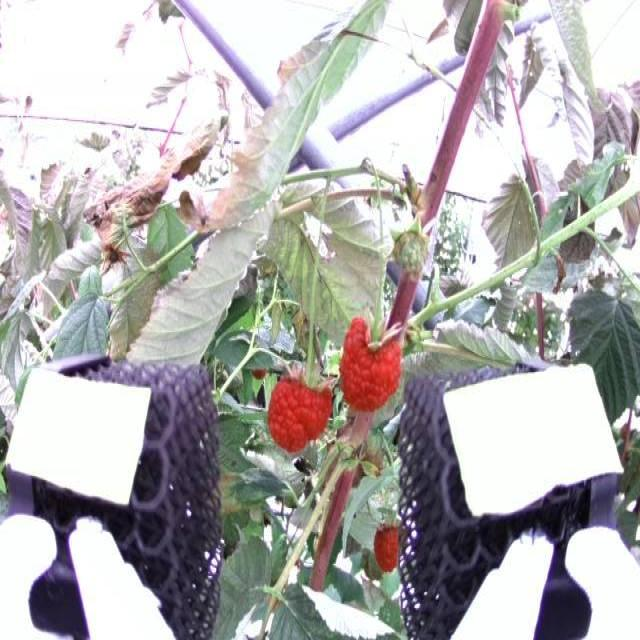Riped berries: (336, 312, 406, 415), (264, 361, 330, 455), (371, 512, 402, 573)
